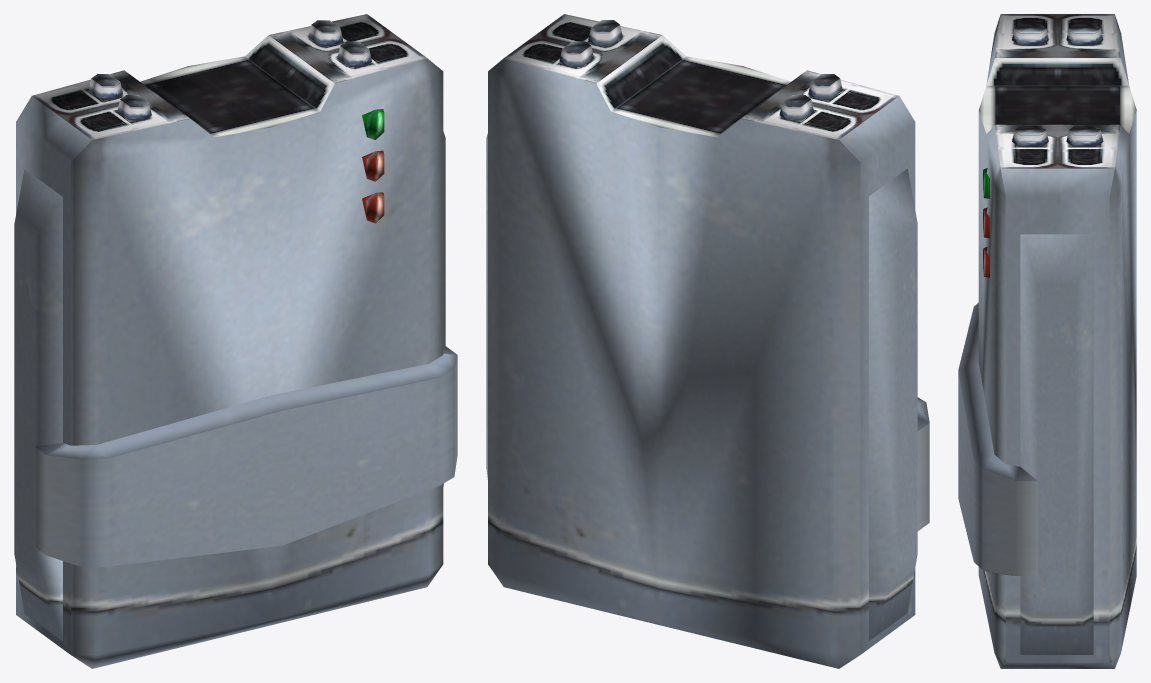
Rendered from item_battery_02.fbx.
3 views of the same model, side by side, from view 1: azimuth 30°, elevation 25°; view 2: azimuth 150°, elevation 25°; view 3: azimuth 270°, elevation 25° (orthographic). The views are drawn at different scales.
Parts seen in each view (by area): view 1: 1, 0; view 2: 1; view 3: 1, 0.
Part boxes in pixels (<box>): 1: <box>14,14,457,668</box>; 0: <box>362,109,384,223</box>; 1: <box>486,14,929,668</box>; 1: <box>958,14,1136,668</box>; 0: <box>983,168,989,277</box>.
Size of the model in its own units: 0.0883 by 0.1111 by 0.0351.
